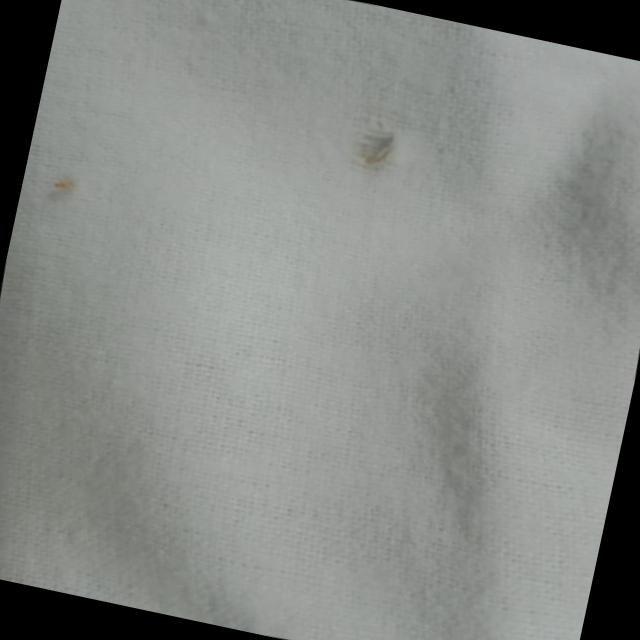cut: (350, 117, 405, 179)
